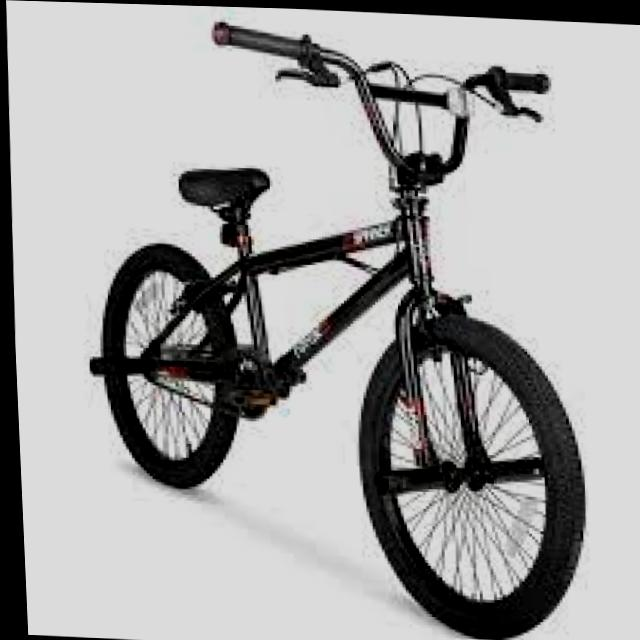bmx-bike: (64, 10, 600, 640)
